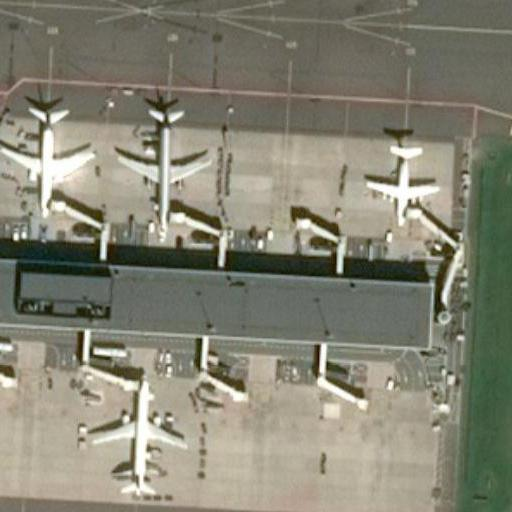Aircraft: (78, 371, 188, 497), (117, 93, 210, 221), (0, 92, 93, 214), (368, 134, 447, 231)
